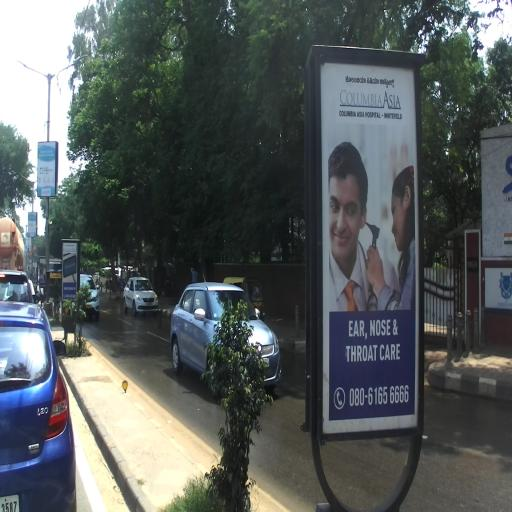street_light_0: (48, 53, 88, 84)
